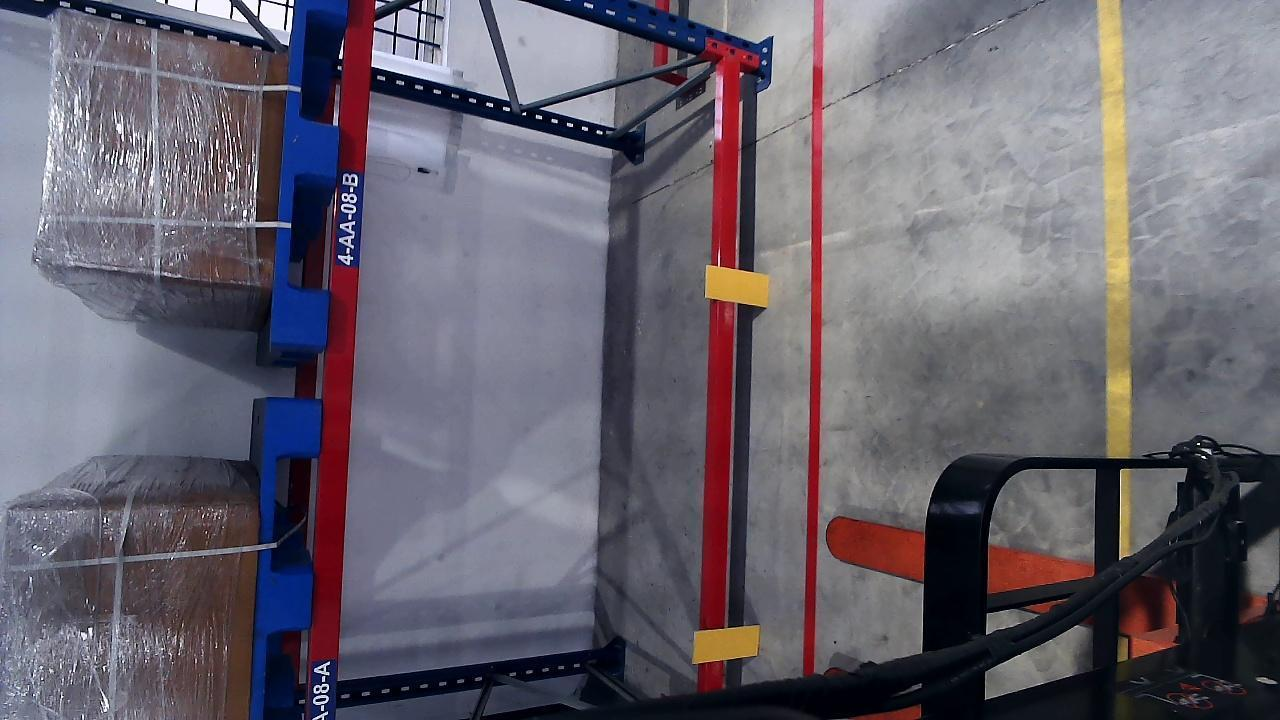red_line: (800, 0, 828, 676)
yellow_line: (1096, 1, 1133, 575)
